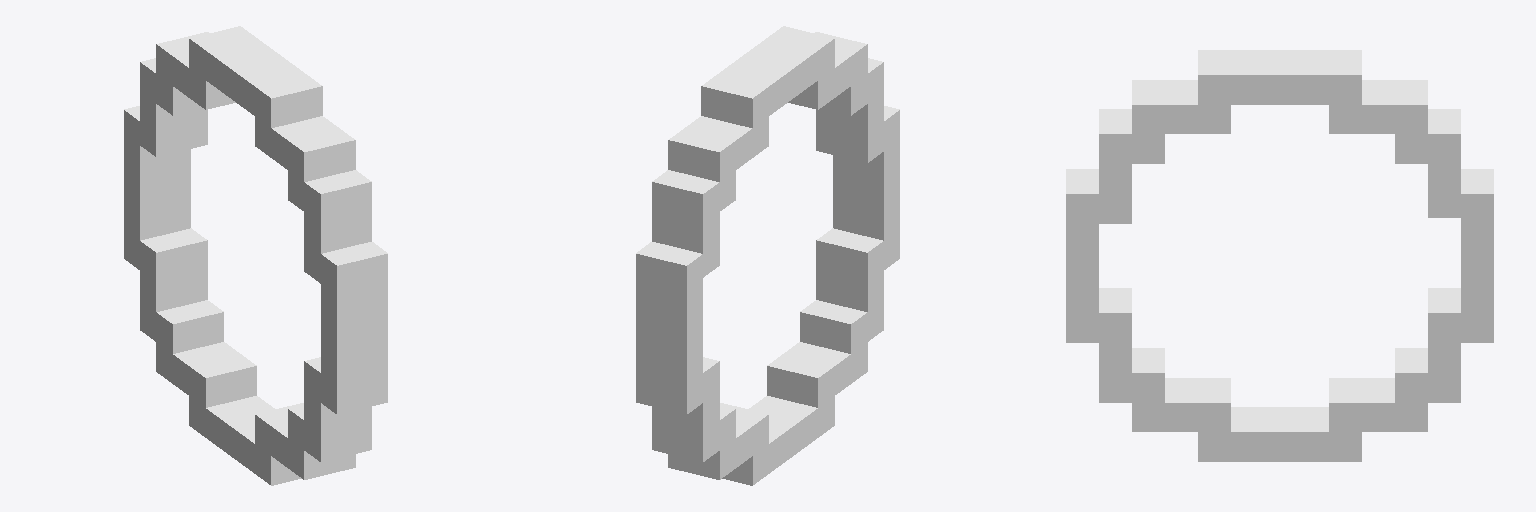
File: WheelSpacer.obj
3 views of the same model, side by side, from view 1: azimuth 30°, elevation 25°; view 2: azimuth 150°, elevation 25°; view 3: azimuth 270°, elevation 25° (orthographic).
Size of the model in its own units: 9 by 65 by 65.